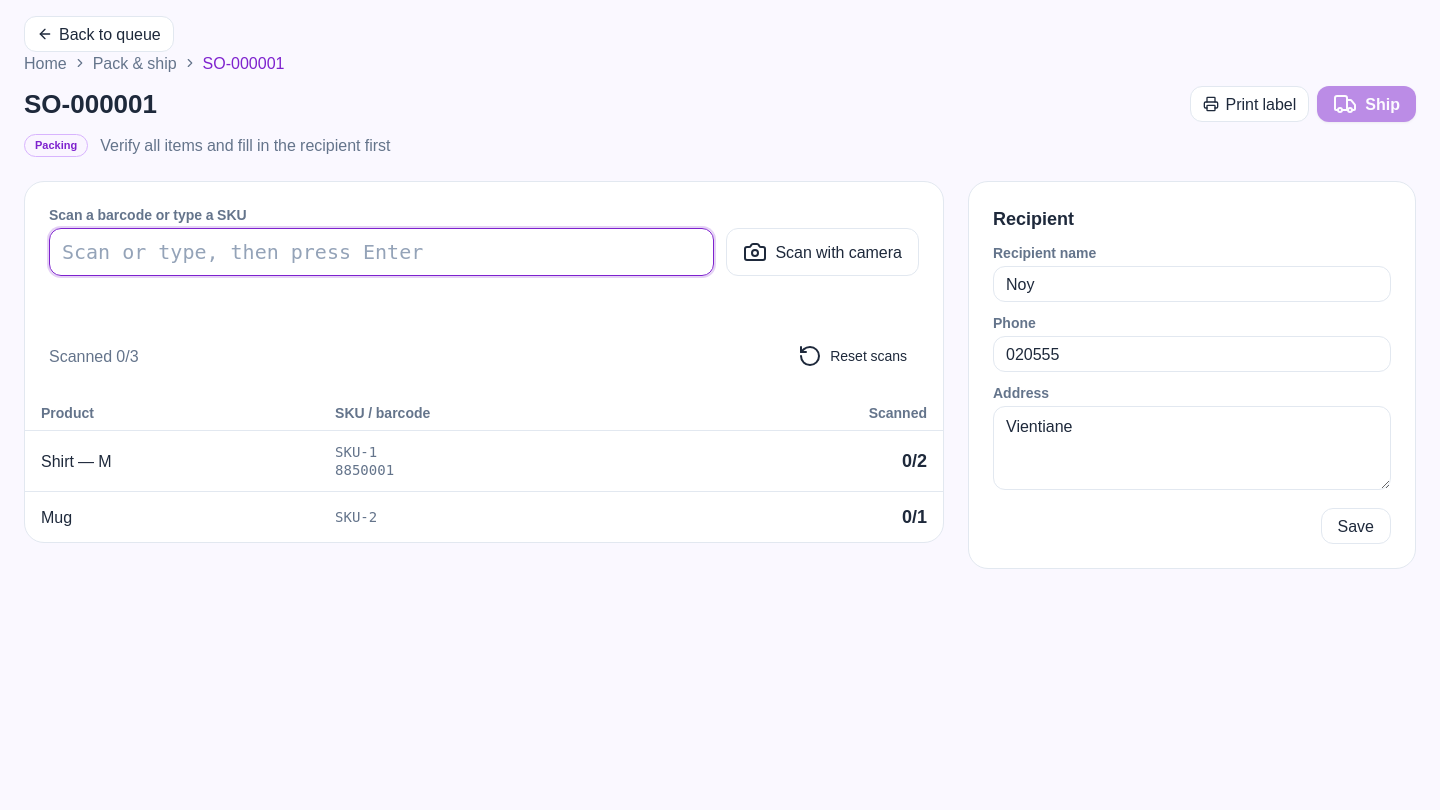
PackPage › ຍິງ: ຖືກ/ຜິດ/ເກີນ ມີຂໍ້ຄວາມ; ຄົບ → verify ອັດຕະໂນມັດ (ຈຳນວນຕໍ່ SKU) → ກວດຄົບແລ້ວ
Type "8850001" into the field labelled "Scan a barcode or type a SKU" at (382, 252), box [49,228,714,276]
Then press Enter
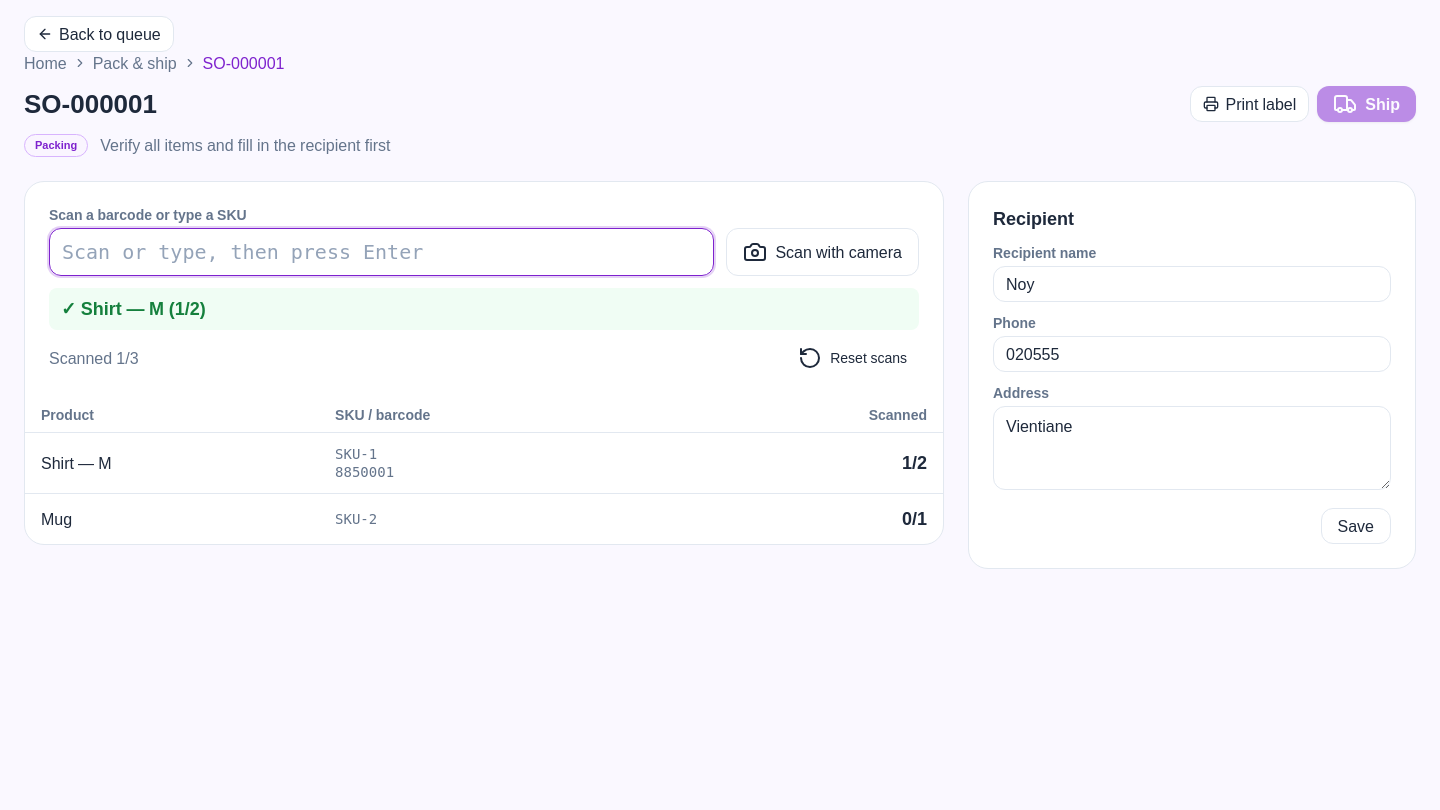
Expected: the message with test id "pack-feedback" reads "✓ Shirt — M (1/2)", [61,294,206,322]
Expected: the text "1/2" is shown, [684,432,943,493]
Type "XYZ" into the field labelled "Scan a barcode or type a SKU" at (382, 252), box [49,228,714,276]
Then press Enter
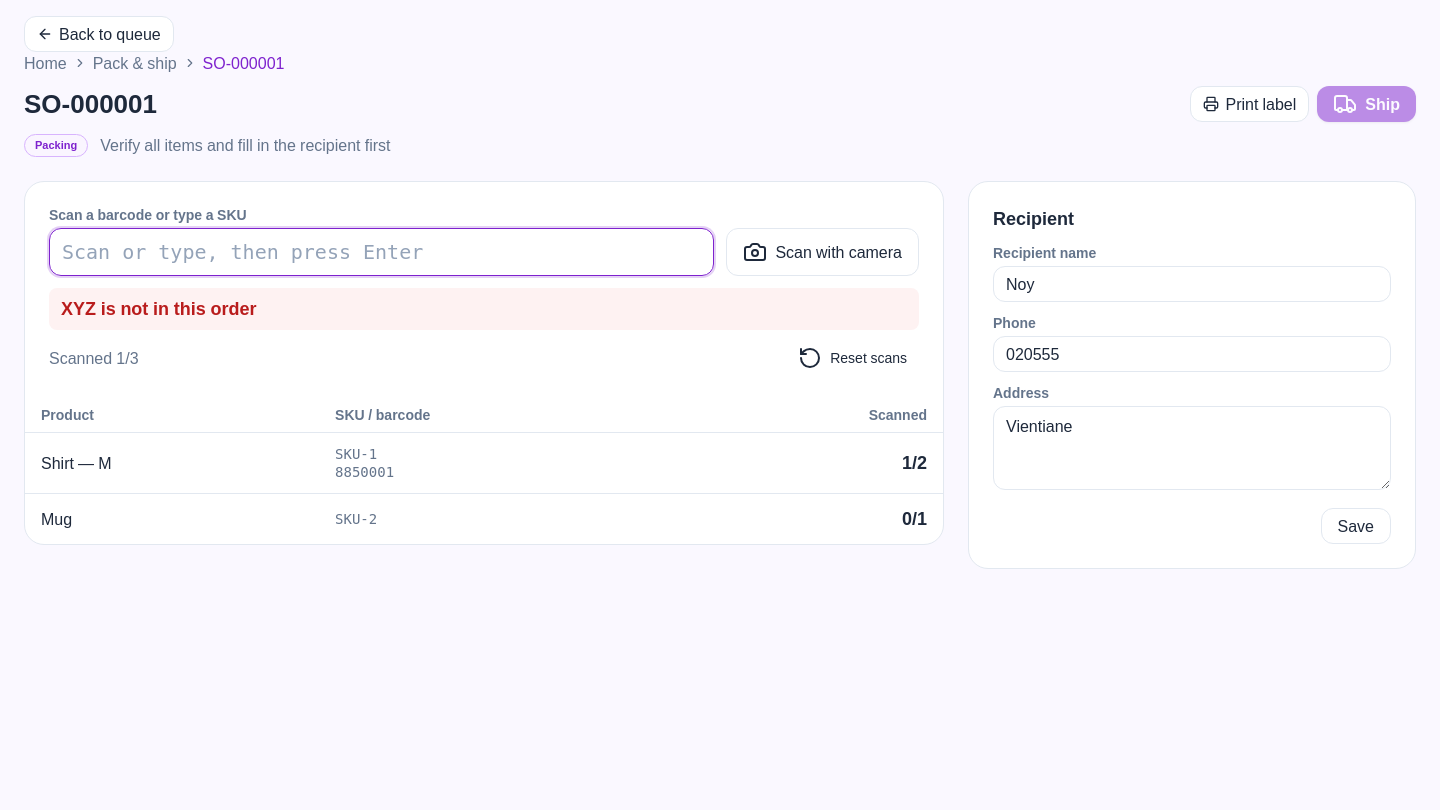
Expected: the text "XYZ is not in this order" is shown, [49,288,919,330]
Type "sku-1" into the field labelled "Scan a barcode or type a SKU" at (382, 252), box [49,228,714,276]
Then press Enter
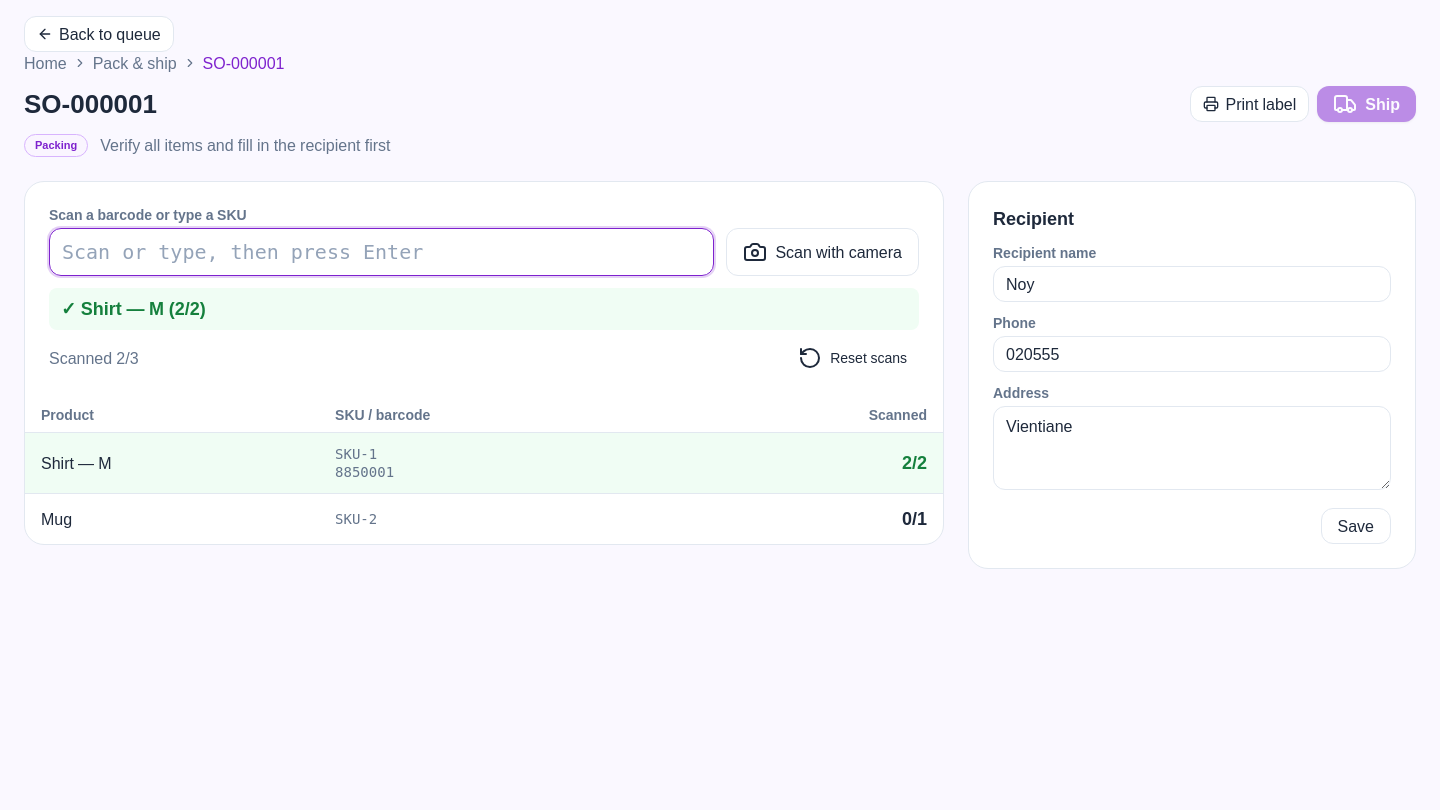
Type "SKU-1" into the field labelled "Scan a barcode or type a SKU" at (382, 252), box [49,228,714,276]
Then press Enter
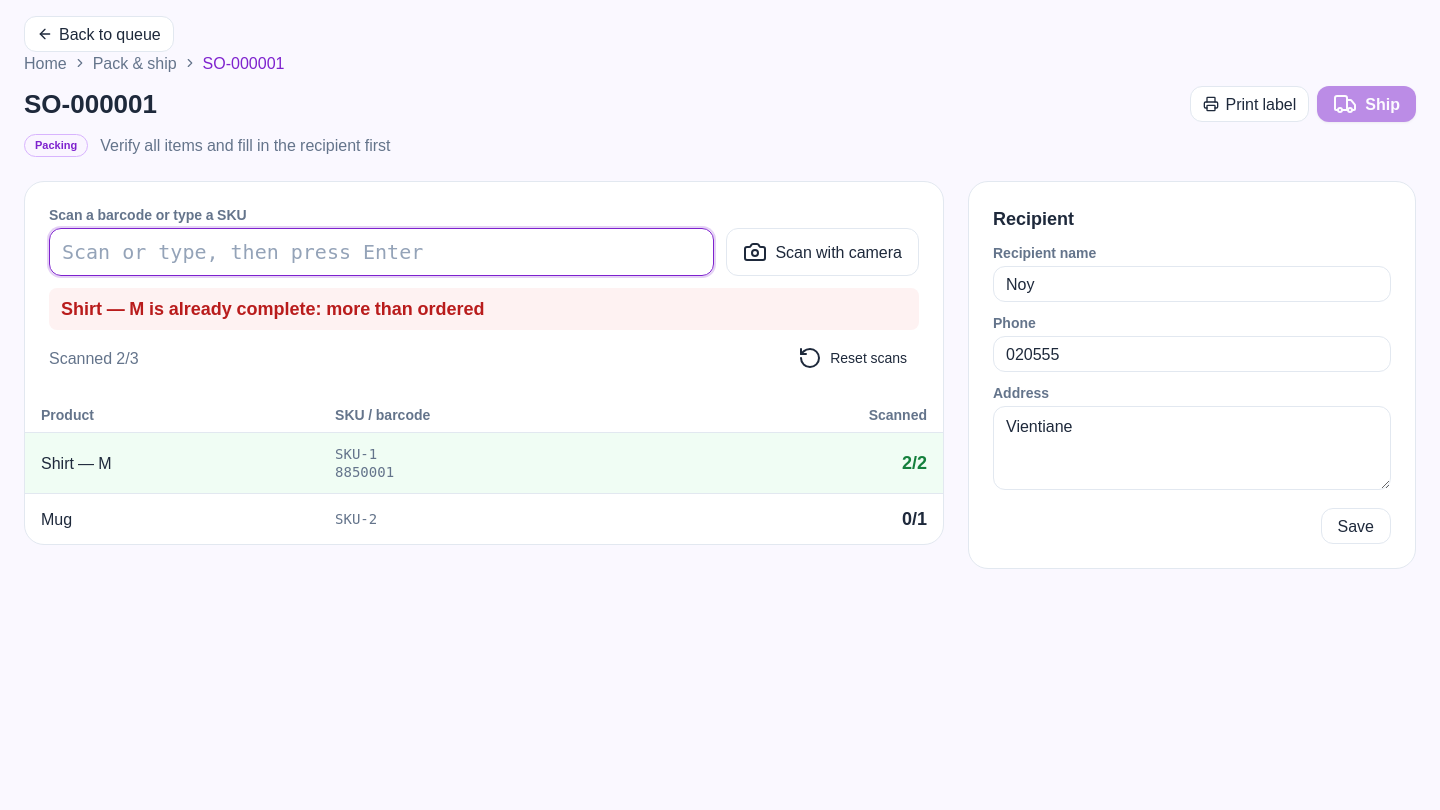
Expected: the text "Shirt — M is already complete: more than ordered" is shown, [49,288,919,330]
Type "SKU-2" into the field labelled "Scan a barcode or type a SKU" at (382, 252), box [49,228,714,276]
Then press Enter
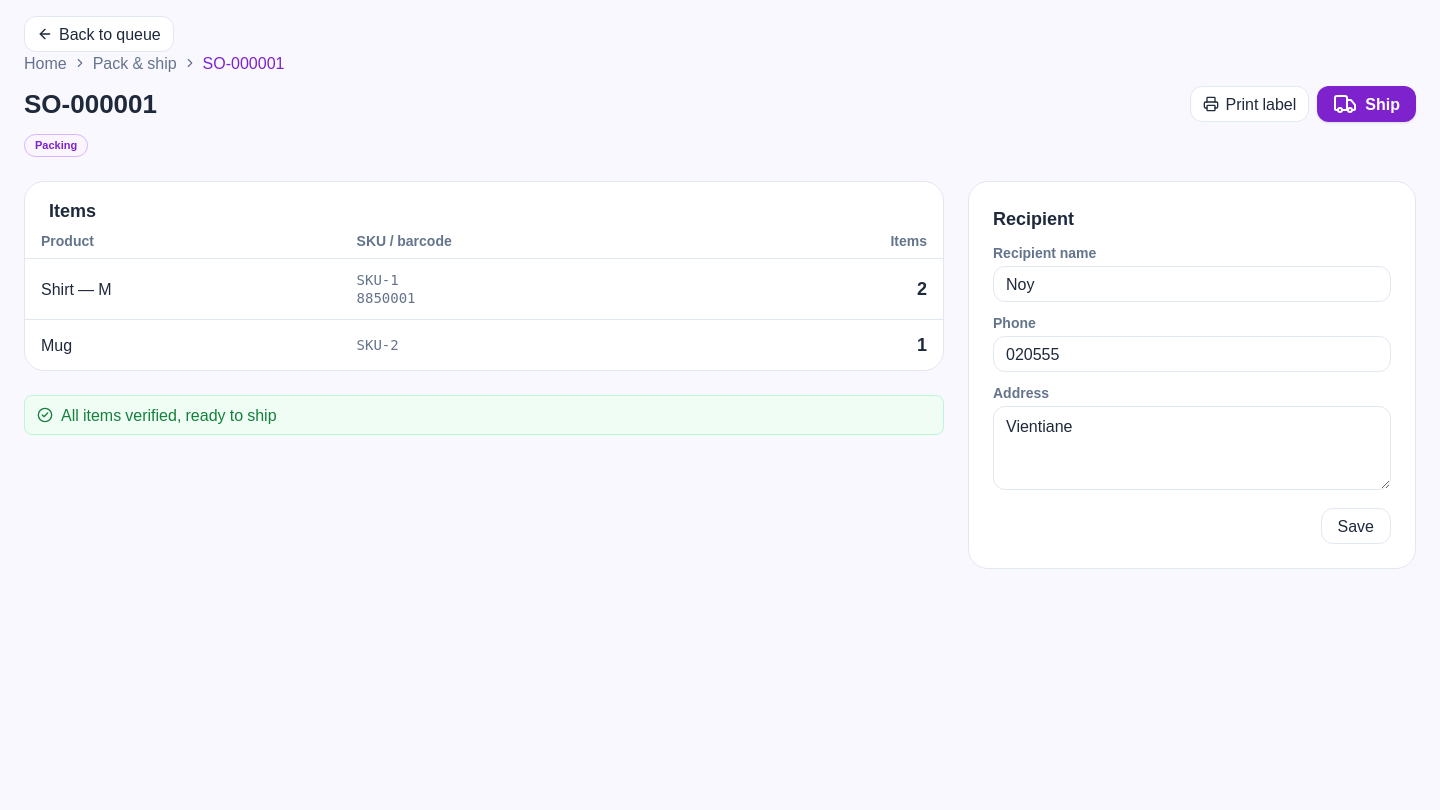
Expected: the text "All items verified, ready to ship" is shown, [24,394,944,434]
